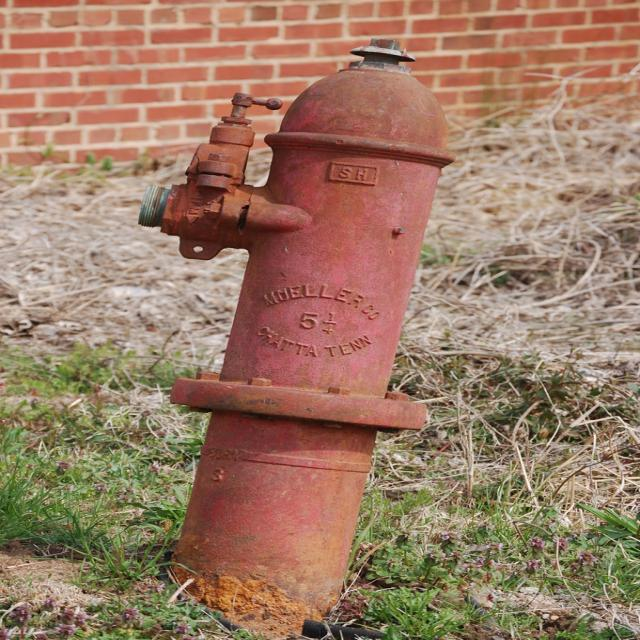fire_hydrant: (141, 43, 459, 640)
